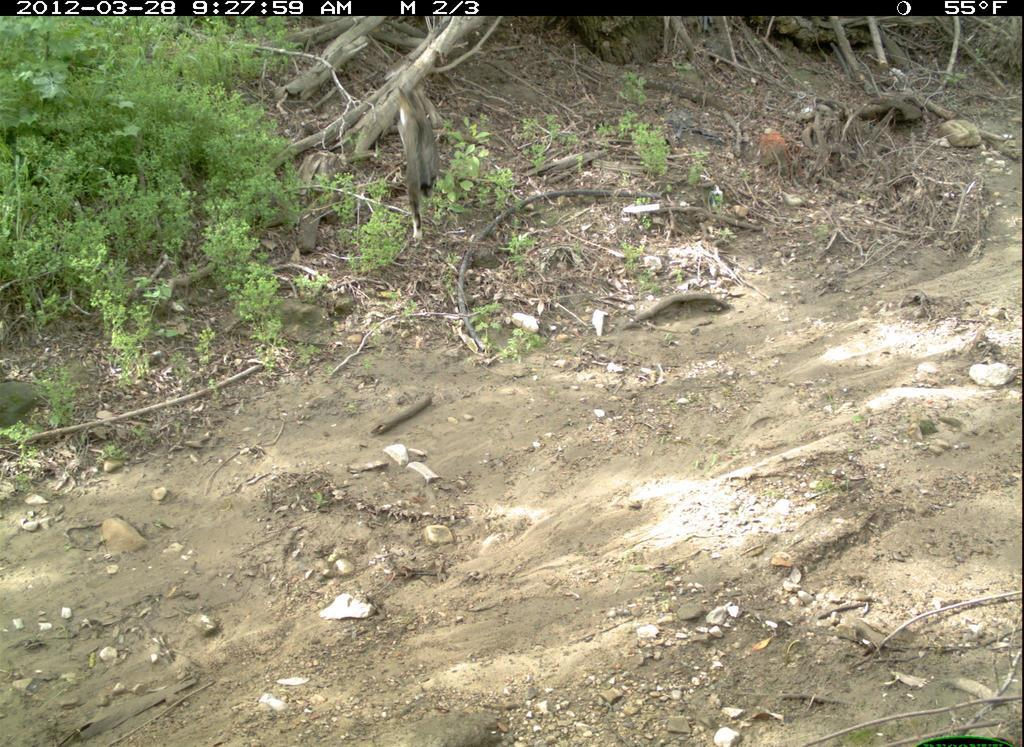cat: (382, 81, 443, 249)
